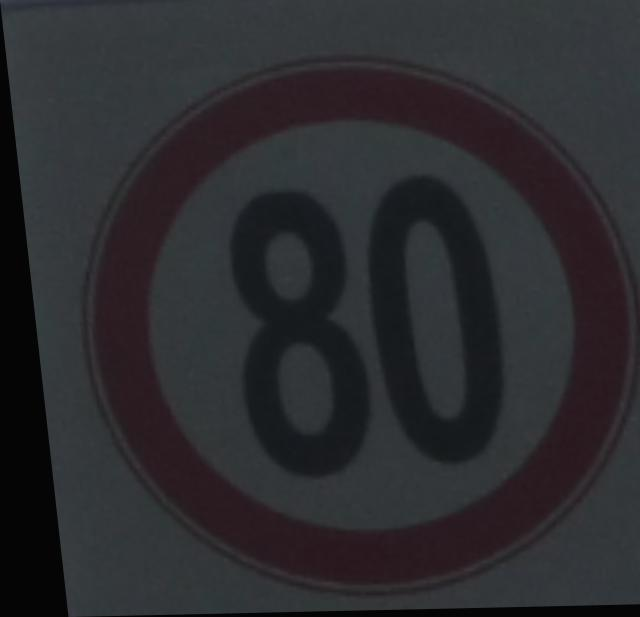limit80: (32, 37, 640, 612)
